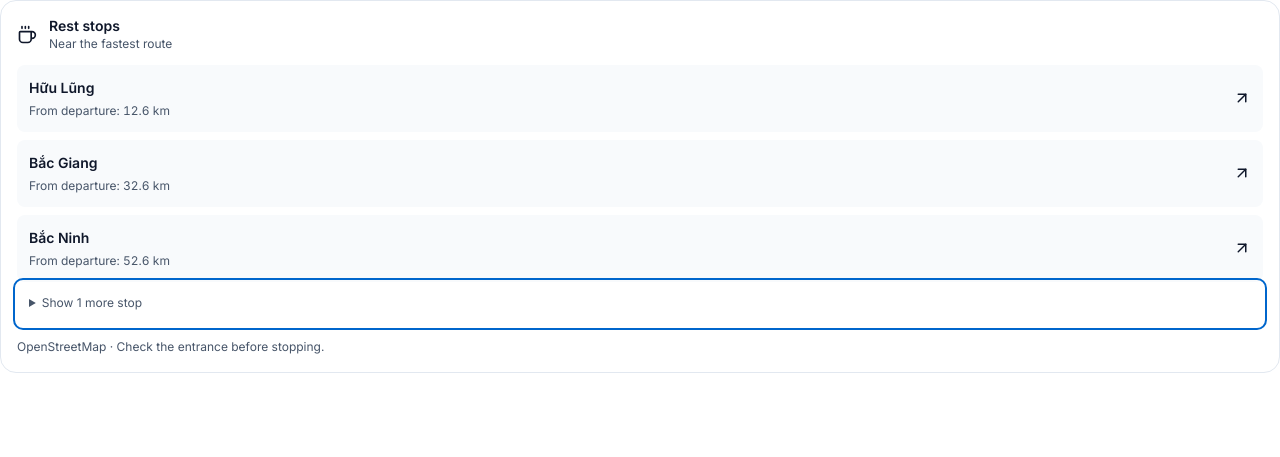
Test: compact route stop and weather sections › shows real named stops and keeps additional stops in a native disclosure
Expected: the text "From departure: 12.6 km" is shown, [29,102,170,120]
Expected: the text "Hà Nội" is not shown
Click the heading "Show 1 more stop" at (92, 302), box [42,294,142,310]
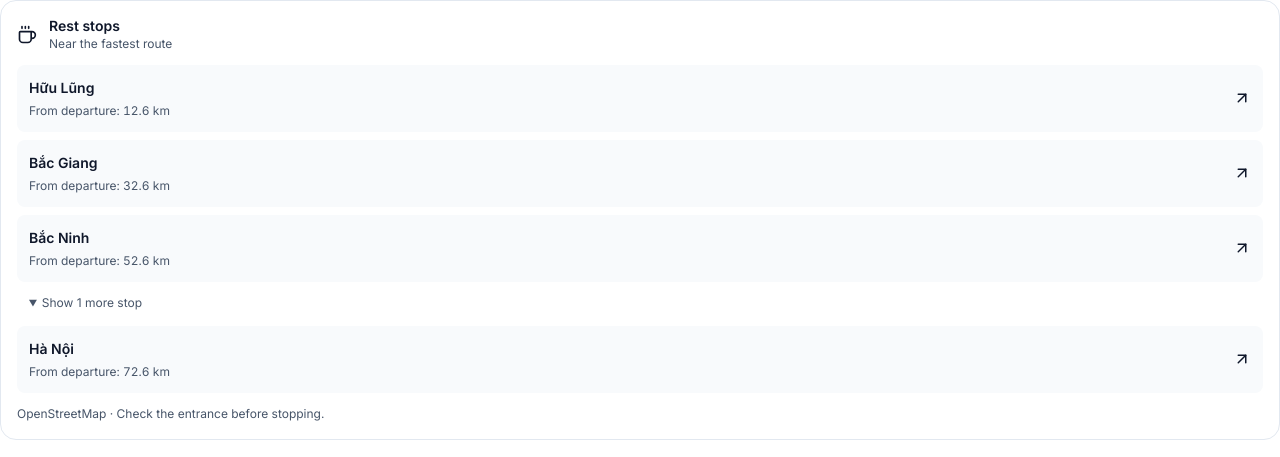
Result: the text "Hà Nội" is shown at [29,340,74,356]
